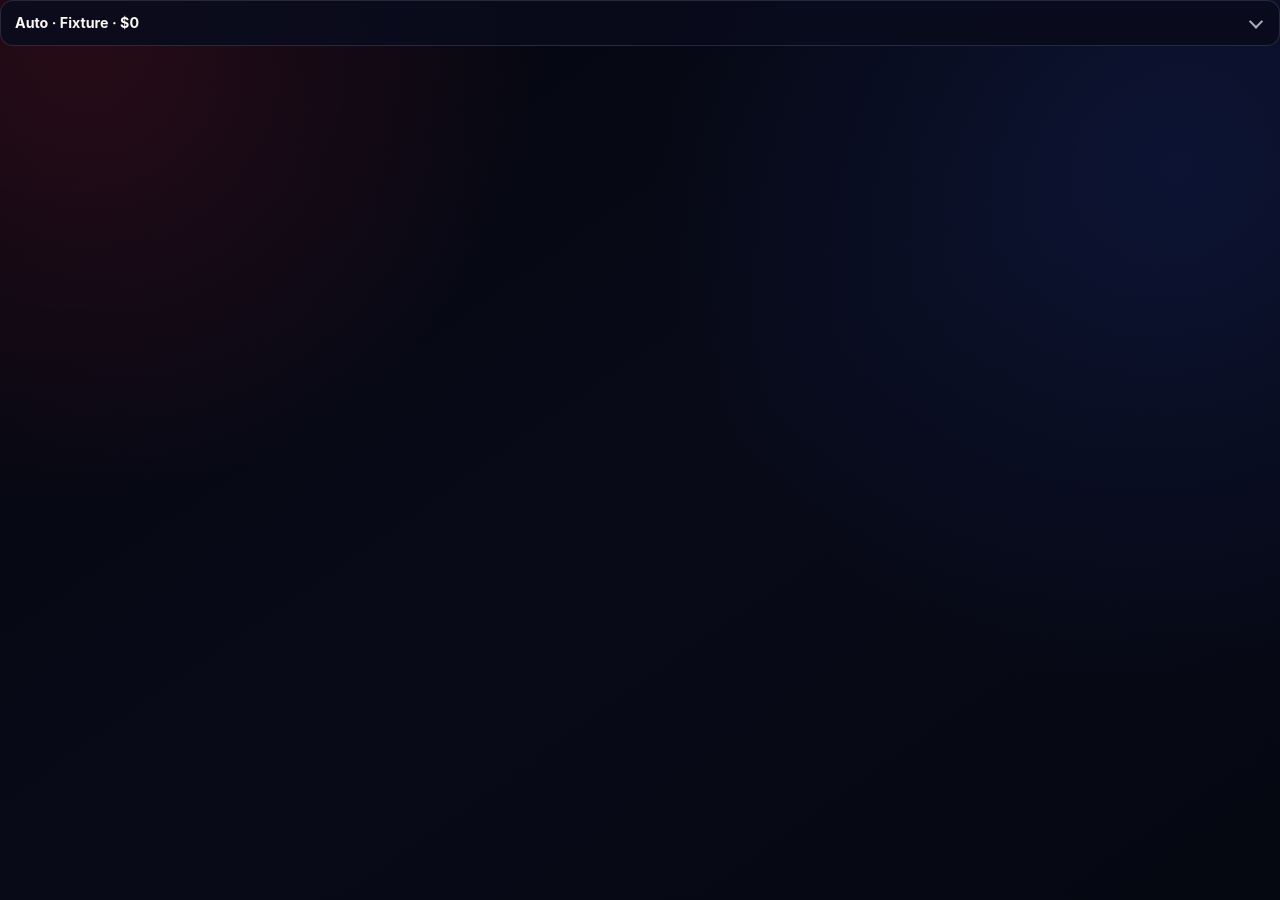
AppSelect › uses an integrated application menu instead of a native browser select
Click the heading named "Avatar generation compute profile": (77, 22) [15, 14, 1263, 31]
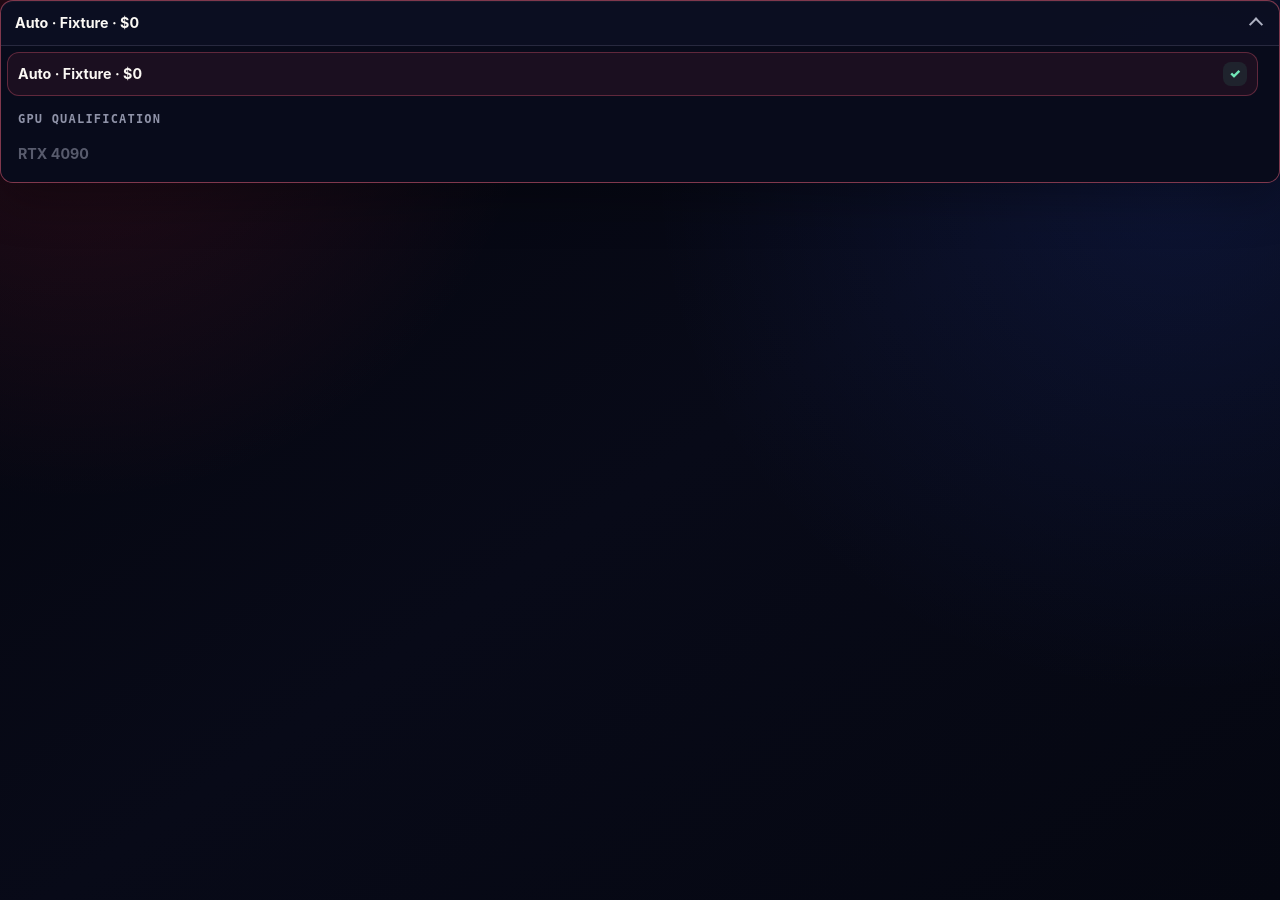
Expected: the list named "compute profile options" is shown, [1, 45, 1279, 182]
Expected: the option "RTX 4090" is disabled, [7, 132, 1258, 176]
Click the option "Auto · Fixture · $0 ✓": (80, 73) [7, 52, 1258, 96]
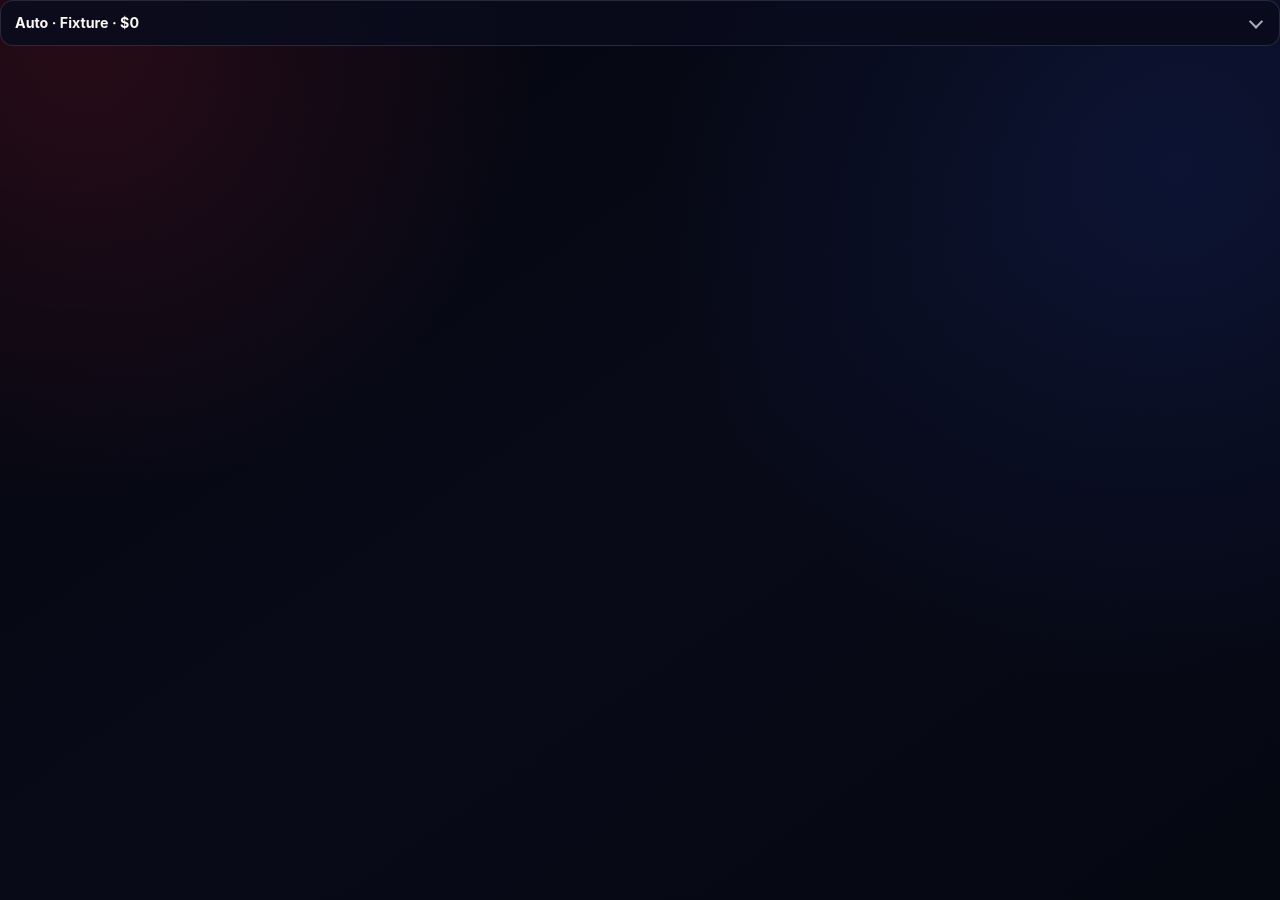
Expected: the element named "Avatar generation compute profile" does not have attribute open, [0, 0, 1279, 46]
